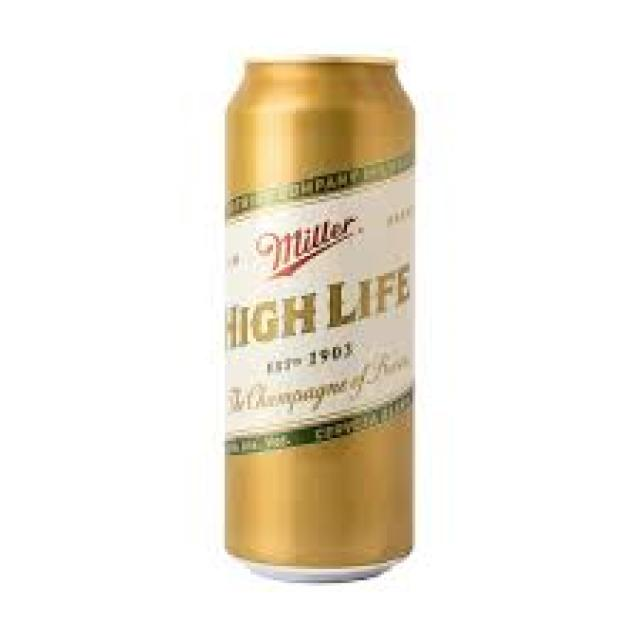Lata: (211, 58, 421, 583)
